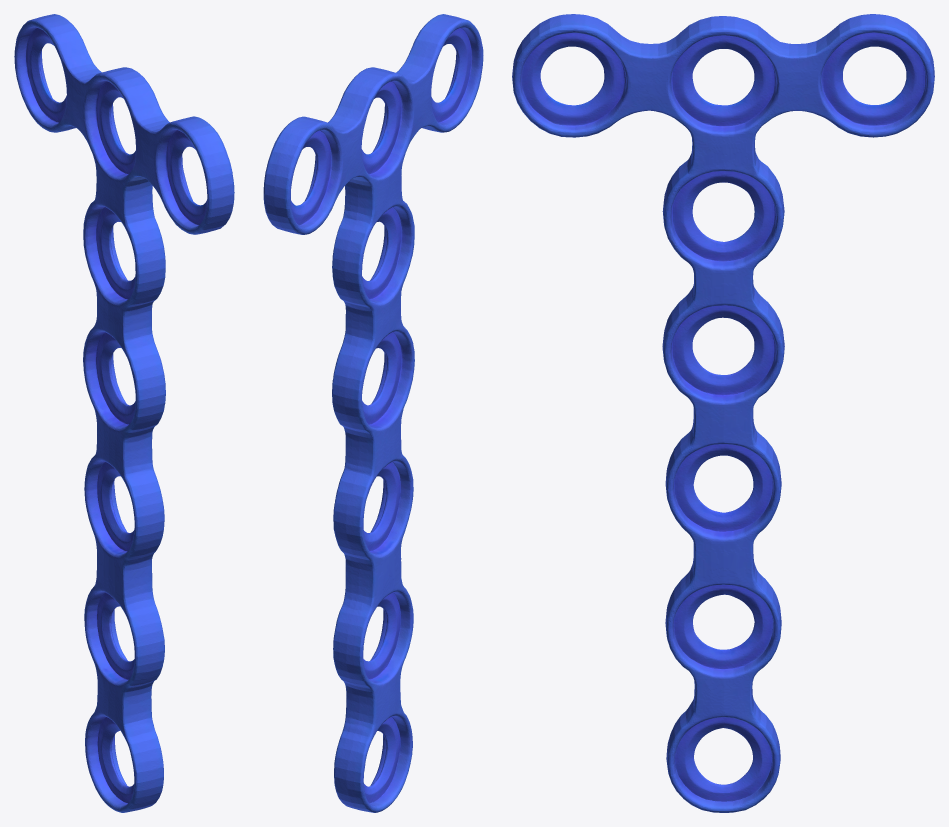
Rendered from placa1.glb.
The picture shows the model from 3 angles, left to right: view 1: azimuth 30°, elevation 25°; view 2: azimuth 150°, elevation 25°; view 3: azimuth 270°, elevation 25°; orthographic projection. The views are drawn at different scales.
Parts seen in each view (by area): view 1: tripo_node_f9757e95-90d9-4df9-98a1-cfc5459bd099; view 2: tripo_node_f9757e95-90d9-4df9-98a1-cfc5459bd099; view 3: tripo_node_f9757e95-90d9-4df9-98a1-cfc5459bd099.
Part boxes in pixels (x1=…): tripo_node_f9757e95-90d9-4df9-98a1-cfc5459bd099: x1=14, y1=14, x2=234, y2=812; tripo_node_f9757e95-90d9-4df9-98a1-cfc5459bd099: x1=263, y1=14, x2=483, y2=812; tripo_node_f9757e95-90d9-4df9-98a1-cfc5459bd099: x1=512, y1=14, x2=934, y2=812.
Bounding box in the file's own units: 0.0461 × 1 × 0.4867.
Materials: 1 (1 with a texture image).
